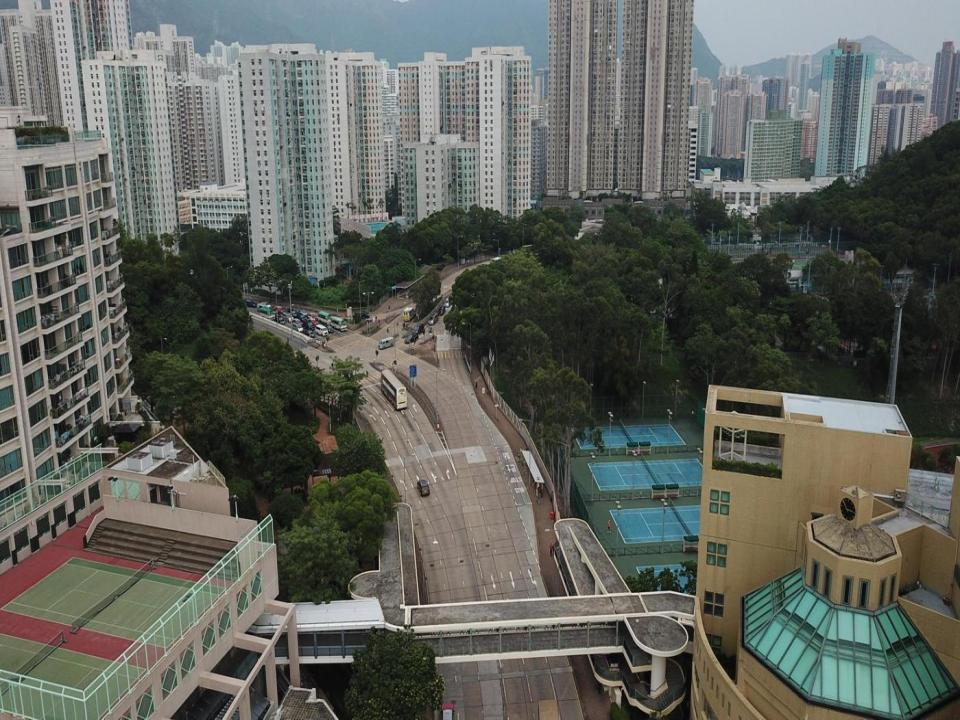bus: (381, 369, 408, 410), (330, 316, 346, 332), (259, 307, 276, 322), (317, 310, 331, 324)
car: (417, 478, 430, 497), (442, 702, 454, 719), (242, 297, 257, 309), (256, 300, 272, 308), (406, 332, 418, 342), (292, 322, 303, 332), (324, 322, 332, 334), (305, 319, 314, 329), (302, 328, 313, 335), (438, 305, 445, 315)
van: (377, 338, 394, 349), (412, 322, 425, 334), (283, 310, 294, 323), (428, 312, 439, 324), (316, 323, 326, 336), (406, 308, 415, 319), (444, 295, 450, 308)
